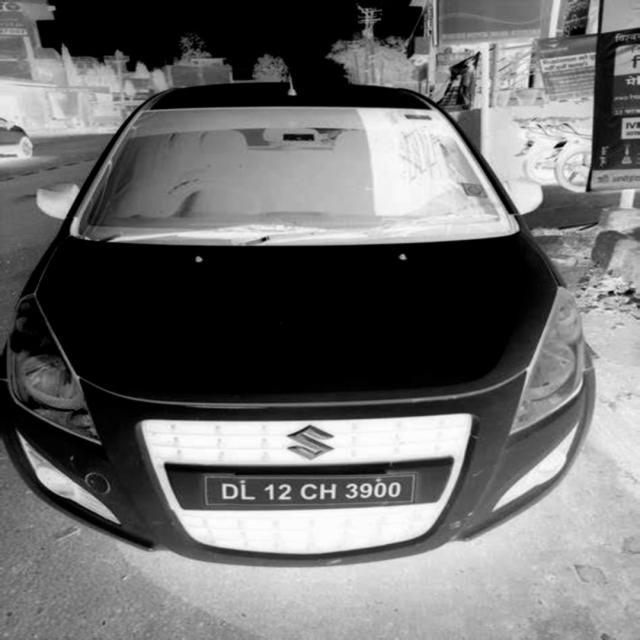Non_registered: (208, 477, 414, 505)
